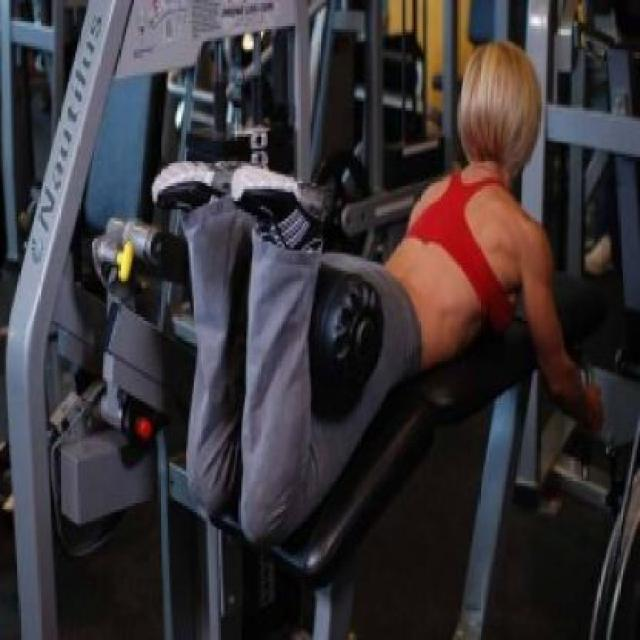reg curl machine: (84, 3, 640, 640)
